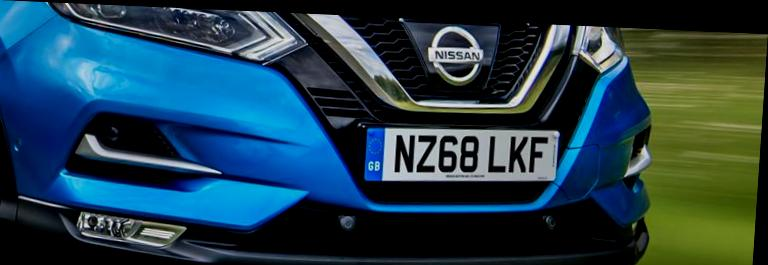License_Plate: (357, 120, 562, 192)
